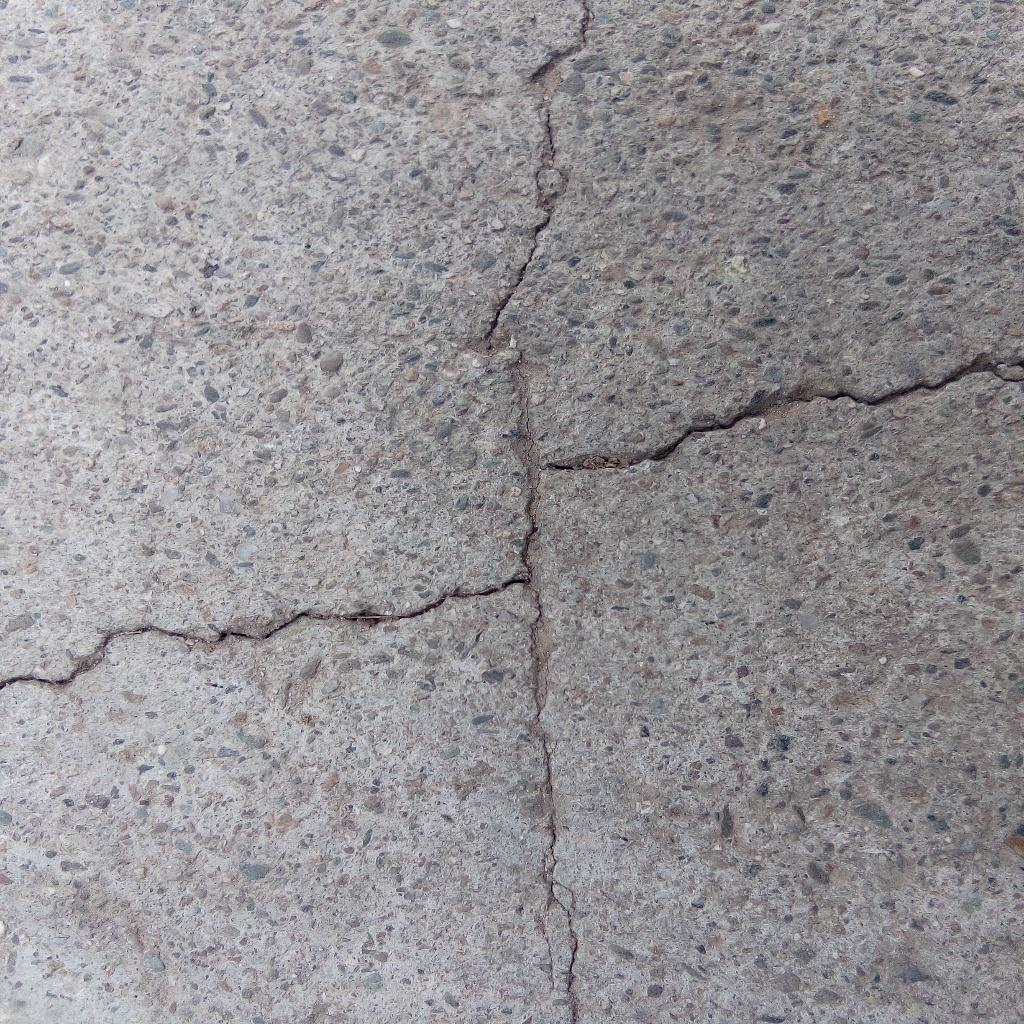Crack: (474, 1, 592, 1024), (542, 352, 1024, 474), (1, 576, 530, 687)
